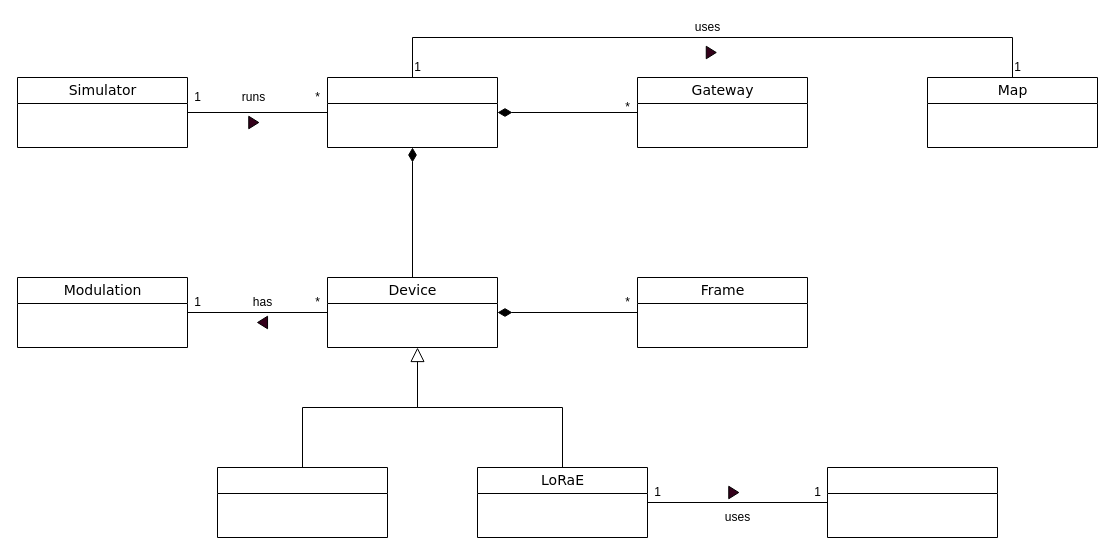
Some shapes in this 1115 by 555 pixel diagram are drawn without their labels. The shapes that lost their labels are listed below. From the top down, each one's centre as x and y in pixels, then its label:
the point at 412,112: Simulation
the point at 302,502: LoRa
the point at 912,502: SequenceGenerator
